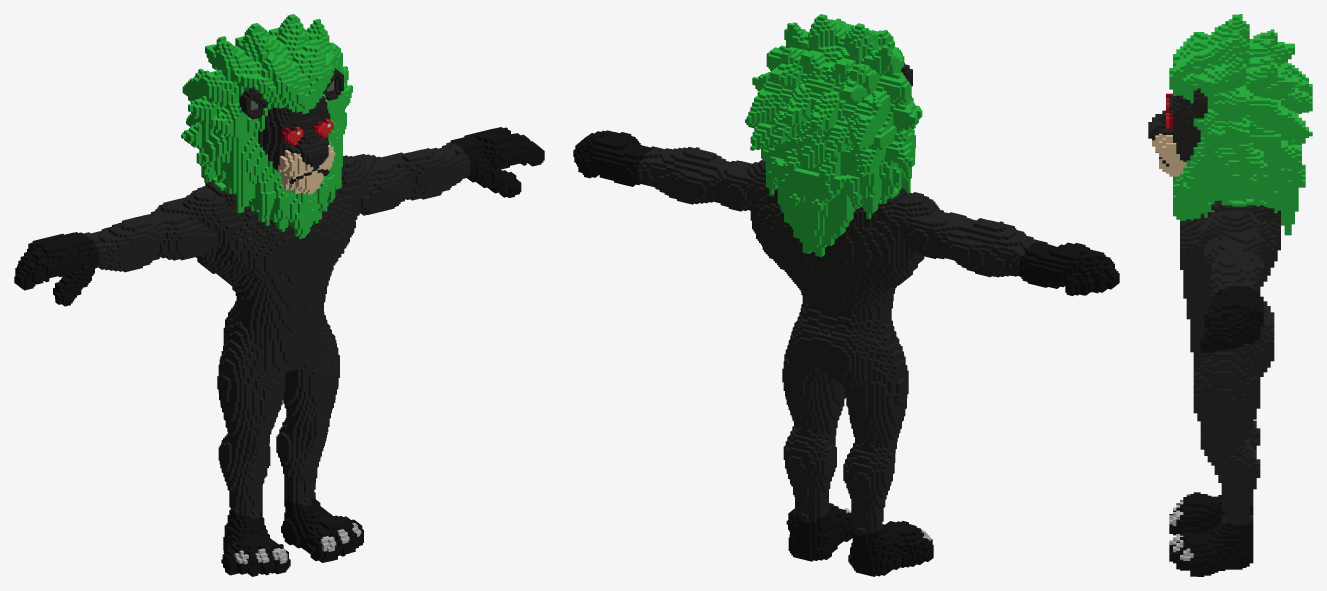
3 renders of one model, left to right at view 1: azimuth 30°, elevation 25°; view 2: azimuth 150°, elevation 25°; view 3: azimuth 270°, elevation 25°, orthographic. The views are drawn at different scales.
Visible parts, largest first — view 1: sad; view 2: sad; view 3: sad.
Boxes of the visible parts, bbox=[...] form: sad: bbox=[14, 14, 544, 576]; sad: bbox=[573, 14, 1119, 576]; sad: bbox=[1148, 14, 1312, 576].
Size of the model in its own units: 17.2 by 16.5 by 4.7.
4 materials, 4 textured.
